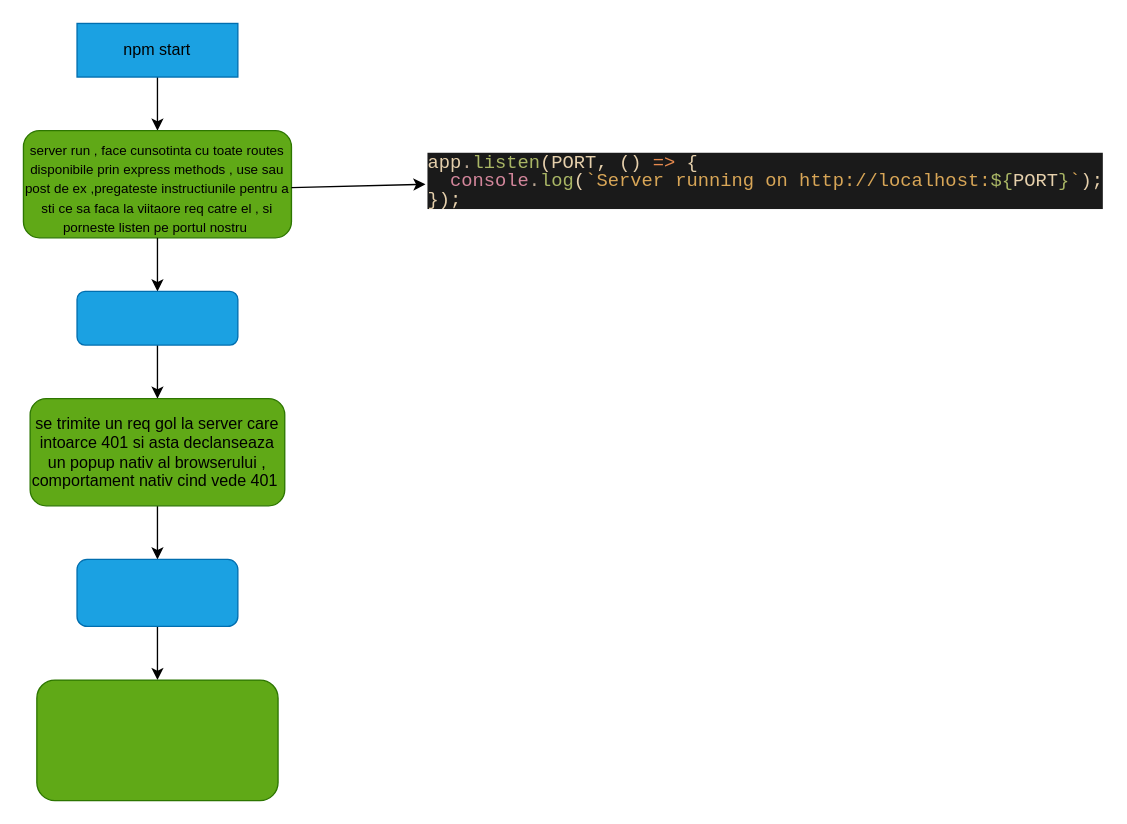
Image size: 1127x824. Some labels were removed from this diagram. The shapes that lost their labels are listed below. From the top down, each one's centre as x and y in pixels, then its label:
(x=157, y=317): localhost:PORT
(x=157, y=592): inseram datele si retrimitem alt req cu date pentru auth
